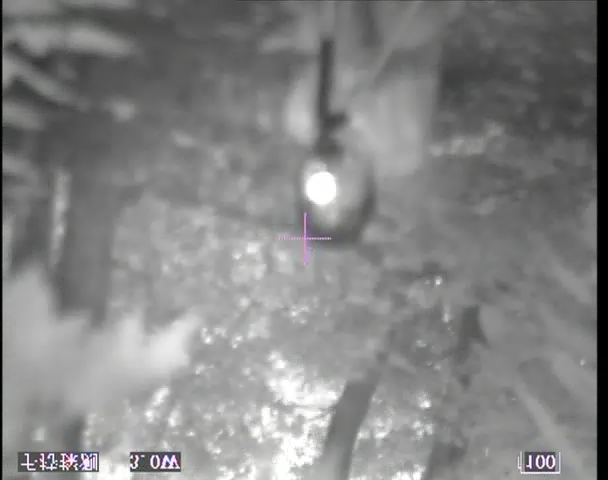my: (305, 169, 339, 204)
